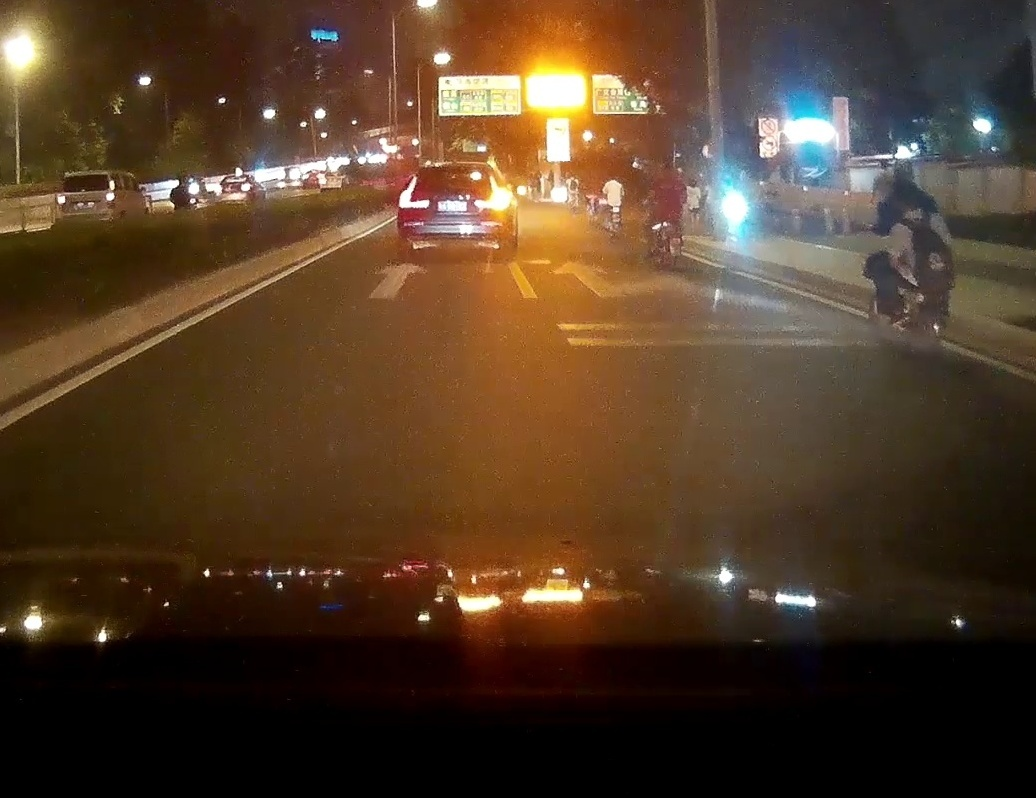L_light: (398, 175, 429, 209), (58, 195, 66, 210)
R_light: (474, 175, 509, 210), (106, 193, 115, 208)
T_light: (444, 166, 464, 171), (81, 174, 92, 178)
night-no: (56, 171, 116, 232)
night-right: (397, 161, 515, 261)
